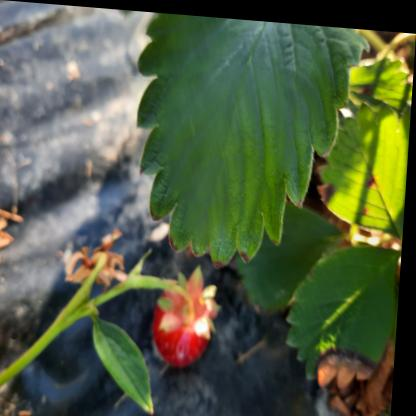ripe: (155, 286, 218, 368)
